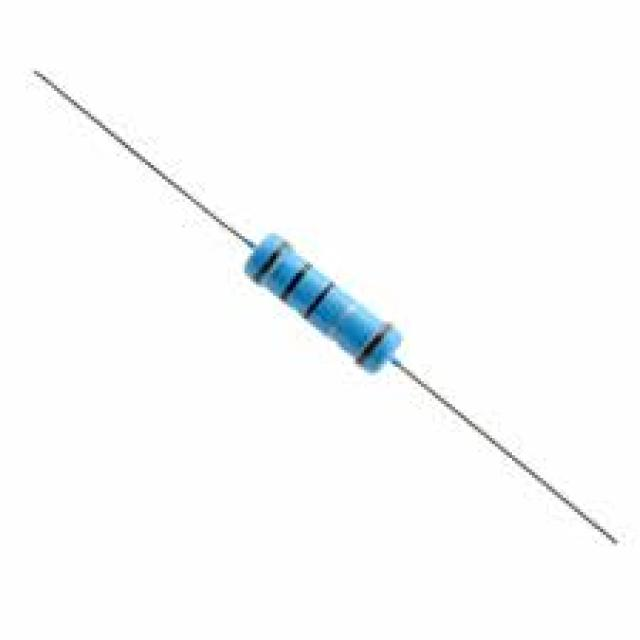Resistor: (239, 229, 409, 375)
